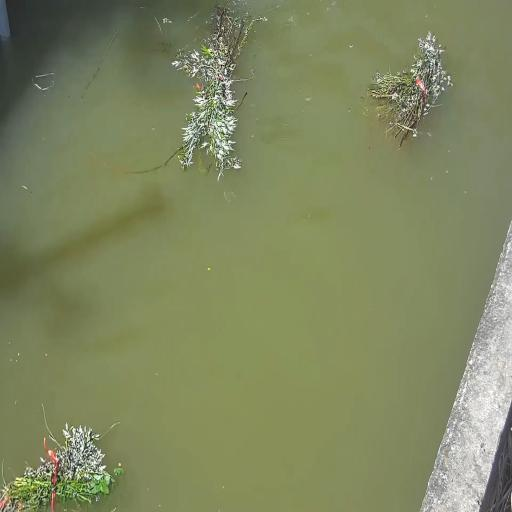twig: (171, 2, 259, 181), (0, 409, 126, 510), (366, 32, 452, 152)
